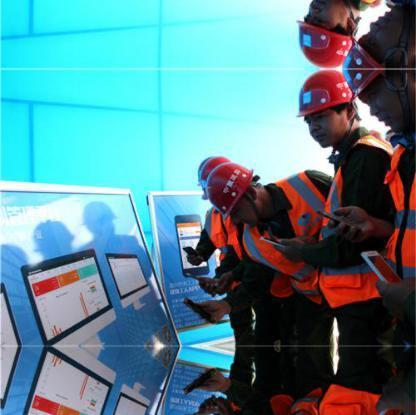helmet: (202, 160, 256, 224), (294, 65, 357, 118), (342, 68, 416, 101), (193, 150, 233, 196)
